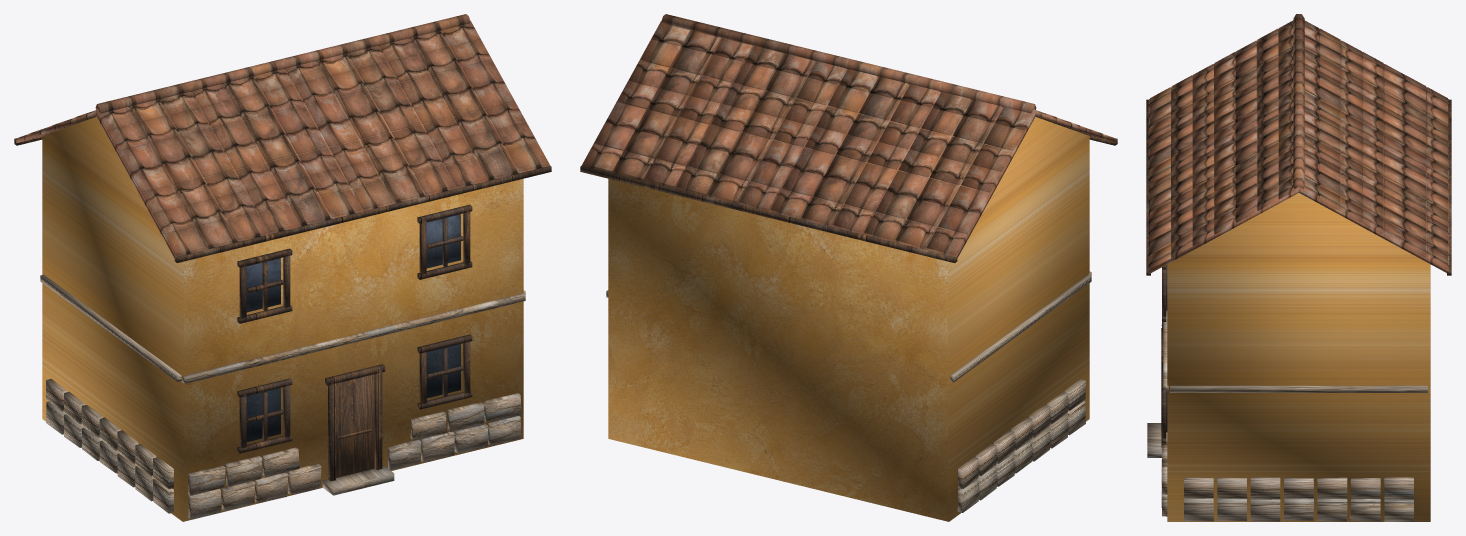
Rendered from house-peru-01.glb.
3 renders of one model, left to right at view 1: azimuth 30°, elevation 25°; view 2: azimuth 150°, elevation 25°; view 3: azimuth 270°, elevation 25°, orthographic. The views are drawn at different scales.
Visible parts, largest first — view 1: House_Walls, House_Roof, House_Stone, House_Wood, House_Windows; view 2: House_Walls, House_Roof, House_Stone, House_Wood; view 3: House_Walls, House_Roof, House_Stone, House_Wood.
Part boxes in pixels (left/top/right/bottom): House_Walls: left=42, top=117, right=523, bottom=521; House_Roof: left=15, top=14, right=550, bottom=259; House_Stone: left=40, top=274, right=525, bottom=519; House_Wood: left=14, top=137, right=551, bottom=481; House_Windows: left=246, top=214, right=460, bottom=441; House_Walls: left=608, top=117, right=1089, bottom=521; House_Roof: left=581, top=14, right=1116, bottom=258; House_Stone: left=606, top=271, right=1091, bottom=512; House_Wood: left=580, top=137, right=1117, bottom=262; House_Walls: left=1167, top=193, right=1430, bottom=521; House_Roof: left=1148, top=14, right=1449, bottom=273; House_Stone: left=1147, top=310, right=1427, bottom=521; House_Wood: left=1146, top=99, right=1451, bottom=448.
Bounding box in the file's own units: 7.7 × 7.25 × 5.8.
5 materials, 5 textured.
